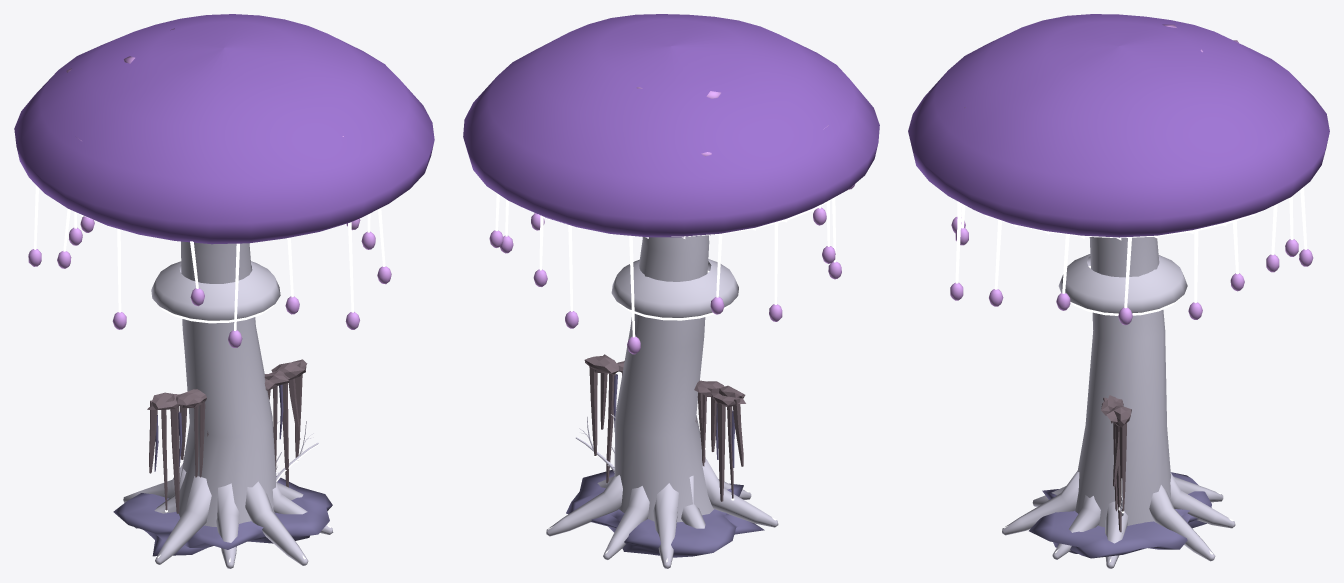
Rendered from FungalF6Kit.fbx.
The picture shows the model from 3 angles, left to right: view 1: azimuth 30°, elevation 25°; view 2: azimuth 150°, elevation 25°; view 3: azimuth 270°, elevation 25°; orthographic projection.
Visible parts, largest first — view 1: ElderCap__CAP, ElderCap__STEM, HangingRootFringe__WOOD, ElderCap__MOSS, ElderCap__GLOW, ElderCap__BULB; view 2: ElderCap__CAP, ElderCap__STEM, HangingRootFringe__WOOD, ElderCap__MOSS, ElderCap__GLOW, ElderCap__BULB; view 3: ElderCap__CAP, ElderCap__STEM, ElderCap__MOSS, ElderCap__GLOW, ElderCap__BULB, HangingRootFringe__WOOD.
Boxes of the visible parts, left/top/right/bottom form: ElderCap__CAP: left=14, top=14, right=434, bottom=244; ElderCap__STEM: left=123, top=241, right=333, bottom=568; HangingRootFringe__WOOD: left=147, top=359, right=307, bottom=513; ElderCap__MOSS: left=113, top=475, right=332, bottom=556; ElderCap__GLOW: left=34, top=185, right=385, bottom=562; ElderCap__BULB: left=28, top=28, right=391, bottom=347; ElderCap__CAP: left=463, top=14, right=879, bottom=237; ElderCap__STEM: left=546, top=235, right=778, bottom=568; HangingRootFringe__WOOD: left=584, top=354, right=745, bottom=501; ElderCap__MOSS: left=566, top=470, right=764, bottom=557; ElderCap__GLOW: left=495, top=193, right=839, bottom=562; ElderCap__BULB: left=489, top=87, right=855, bottom=354; ElderCap__CAP: left=908, top=14, right=1329, bottom=237; ElderCap__STEM: left=1002, top=237, right=1235, bottom=568; ElderCap__MOSS: left=1029, top=472, right=1211, bottom=558; ElderCap__GLOW: left=955, top=187, right=1307, bottom=562; ElderCap__BULB: left=950, top=24, right=1313, bottom=325; HangingRootFringe__WOOD: left=1101, top=395, right=1131, bottom=532.
Bounding box in the file's own units: 87.61 × 110 × 88.21.
